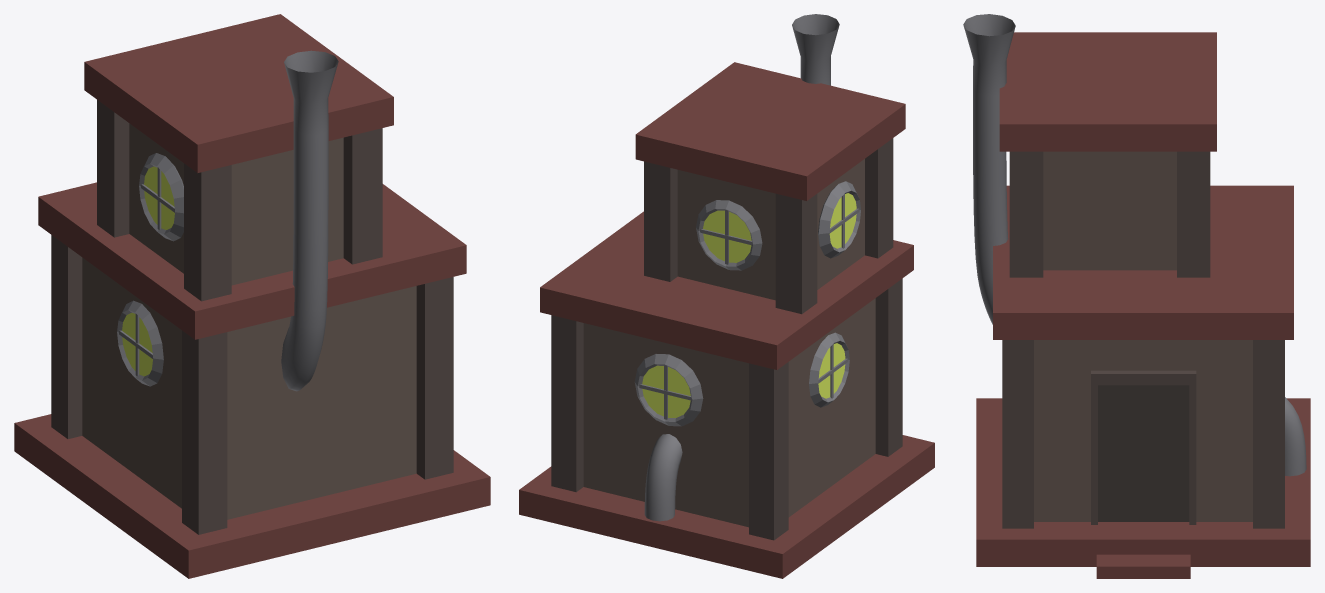
Rendered from cube_hut.fbx.
The picture shows the model from 3 angles, left to right: view 1: azimuth 30°, elevation 25°; view 2: azimuth 150°, elevation 25°; view 3: azimuth 270°, elevation 25°; orthographic projection. The views are drawn at different scales.
Visible parts, largest first — view 1: house.002; view 2: house.002; view 3: house.002.
Part boxes in pixels (x1,y1,x2,y2): house.002: [14, 14, 490, 578]; house.002: [519, 14, 934, 578]; house.002: [963, 14, 1310, 578].
Size of the model in its own units: 426 by 599 by 408.
Materials: 2 (1 with a texture image).
